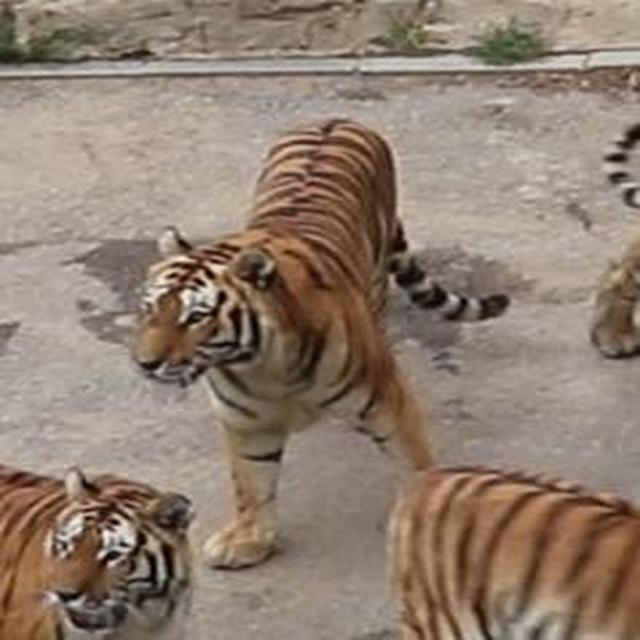tiger: (128, 103, 520, 564), (366, 444, 640, 640), (0, 434, 200, 640), (591, 84, 640, 380)
